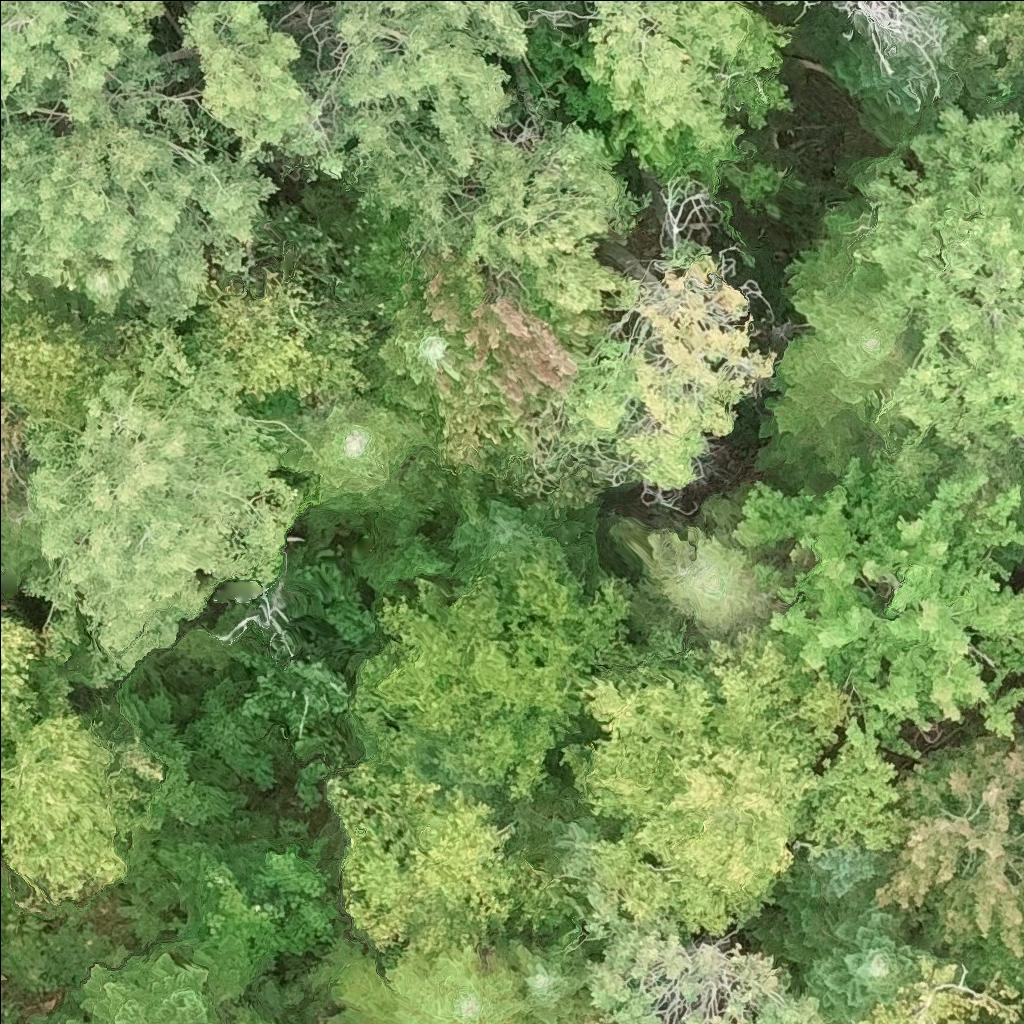crown: (560, 621, 904, 935), (13, 324, 316, 675), (724, 454, 1023, 762), (821, 102, 1023, 525), (0, 63, 283, 333), (351, 553, 645, 800), (294, 0, 540, 263), (321, 730, 586, 961), (395, 252, 581, 518), (449, 120, 653, 352), (560, 0, 798, 190), (873, 722, 1023, 997), (755, 241, 921, 487), (581, 883, 828, 1023), (185, 265, 384, 425), (174, 0, 349, 181), (0, 711, 160, 903), (271, 391, 445, 542), (0, 0, 168, 134), (304, 936, 531, 1023), (743, 836, 887, 970), (429, 484, 603, 591), (625, 523, 778, 640), (797, 895, 933, 1023), (173, 663, 295, 797), (28, 945, 228, 1023), (0, 287, 110, 421), (360, 292, 466, 409), (857, 947, 1008, 1023), (489, 934, 593, 1023), (349, 533, 452, 602), (247, 833, 335, 910), (0, 610, 43, 757), (41, 263, 140, 317), (972, 0, 1023, 78), (0, 376, 28, 510), (231, 979, 289, 1023), (994, 1018, 1023, 1023)
